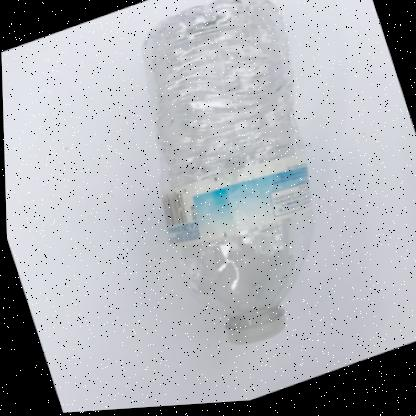Plastic: (143, 0, 313, 347)
